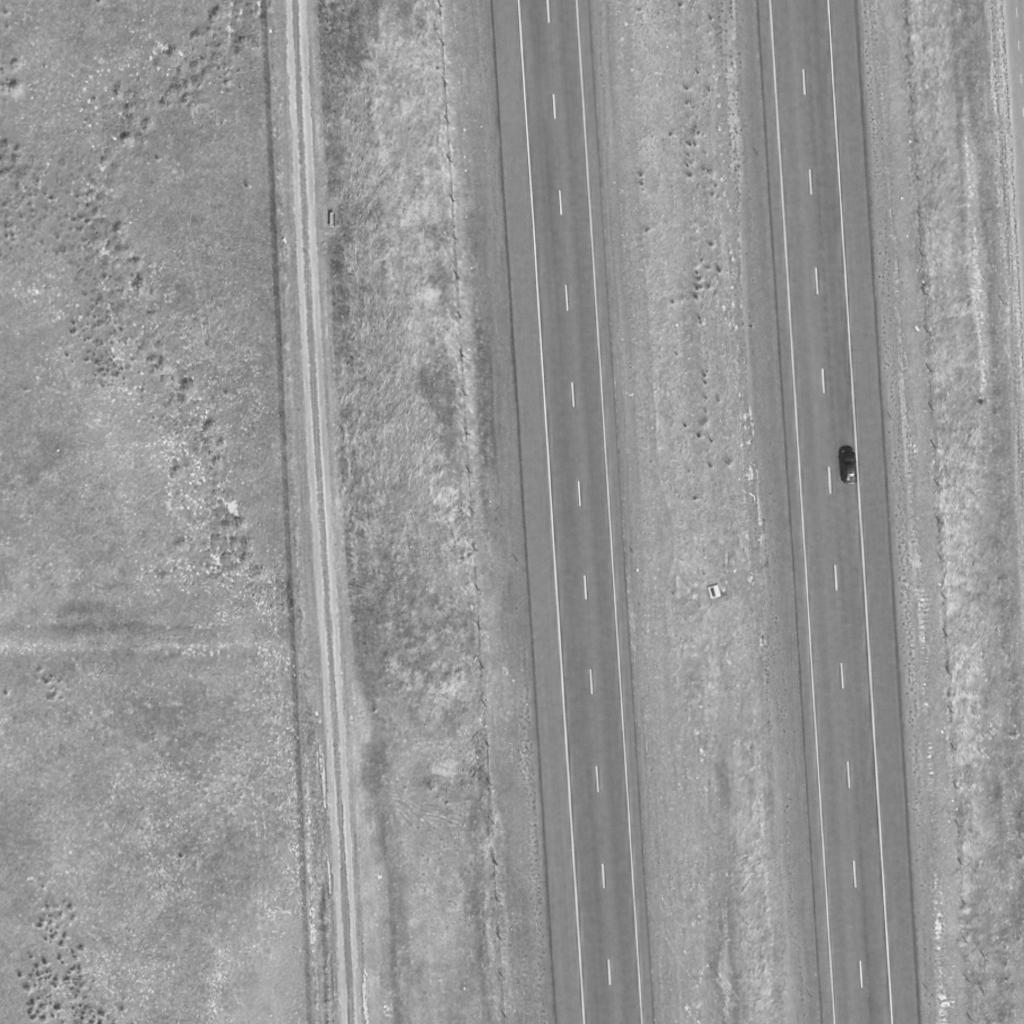vehicle: (840, 449, 860, 483)
